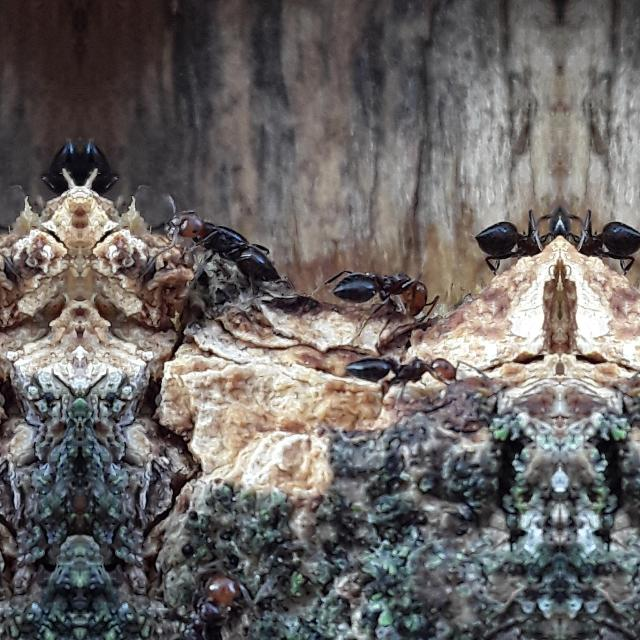Crematogaster: (168, 205, 280, 295), (332, 253, 442, 321), (337, 344, 481, 394), (465, 192, 559, 266), (561, 192, 640, 266), (172, 561, 236, 639)
